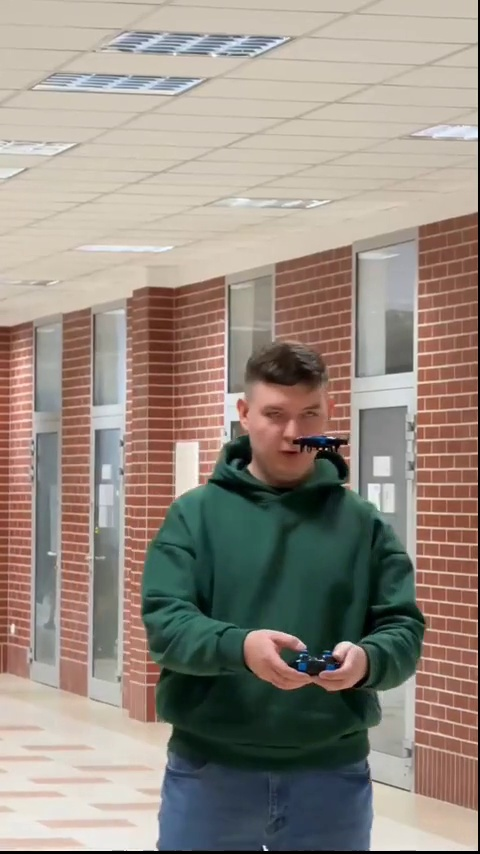drone: (292, 429, 351, 455)
no vest: (137, 342, 423, 851)
